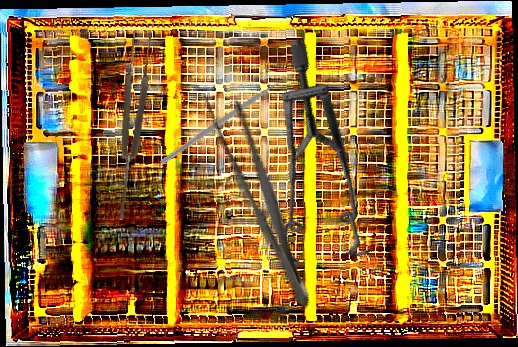Chopper: (159, 44, 298, 201)
Dressing Forceps: (196, 82, 325, 316)
Speculum: (200, 36, 440, 299)
Tissue Forceps: (108, 29, 155, 222)
